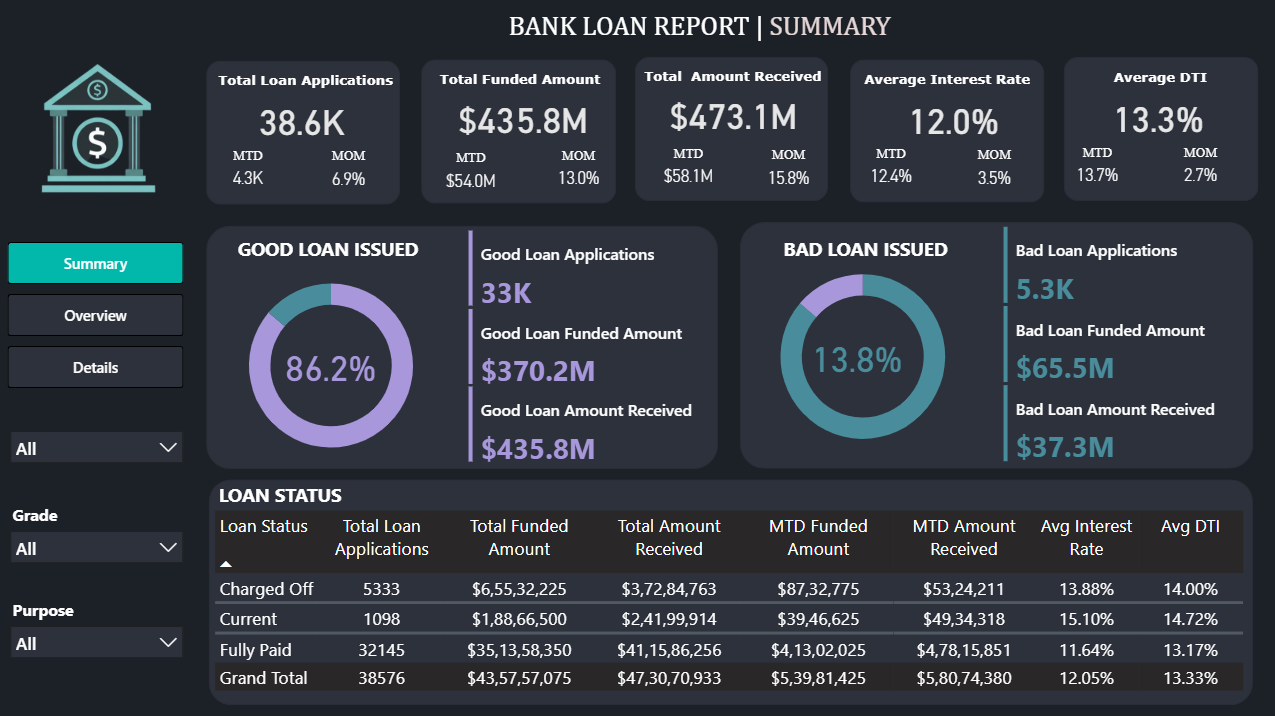

What the dashboard file says about the page in this screenshot:
{"tool":"powerbi","page":{"name":"Summary","canvas":[1280,720],"ordinal":0},"visuals":[{"type":"textbox","box":[121.7,10,1158.3,58.3],"z":0},{"type":"shape","box":[635.4,60.6,193.1,144],"z":0,"group":"g3"},{"type":"shape","box":[1063.1,60.6,194.8,144],"z":0,"group":"g5"},{"type":"shape","box":[421.3,63.1,194.9,144],"z":0,"group":"g2"},{"type":"shape","box":[849.8,63.1,194.3,142.9],"z":0,"group":"g4"},{"type":"shape","box":[206,64.3,193.8,143.7],"z":0,"group":"g1"},{"type":"group","id":"g1","title":"Group 1","box":[206,64.3,195.9,143.7],"z":1000},{"type":"group","id":"g2","title":"Group 1","box":[421.3,63.1,195.7,144],"z":2000},{"type":"card","fields":{"Values":["financial_loan.Total Amount Received"]},"box":[653.6,73.1,159.3,89.5],"z":2000,"group":"g3"},{"type":"card","fields":{"Values":["financial_loan.Avg DTI"]},"box":[1097.5,81.2,121.2,77.5],"z":2000,"group":"g5"},{"type":"card","fields":{"Values":["financial_loan.Avg Interest Rate"]},"box":[892.1,84.1,121.7,75.8],"z":2000,"group":"g4"},{"type":"card","fields":{"Values":["financial_loan.Total Loan Applications"]},"box":[240.4,85.4,121.4,76.2],"z":2000,"group":"g1"},{"type":"card","fields":{"Values":["financial_loan.Total Funded Amount"]},"box":[439.5,86.6,166.3,69.8],"z":2000,"group":"g2"},{"type":"group","id":"g3","title":"Group 1","box":[635.4,60.6,194.9,144],"z":3000},{"type":"textbox","box":[637,65.2,193.3,37.2],"z":3000,"group":"g3"},{"type":"textbox","box":[1062.2,66.8,196,37.5],"z":3000,"group":"g5"},{"type":"textbox","box":[421.9,67.7,195.1,37.2],"z":3000,"group":"g2"},{"type":"textbox","box":[849.4,67.7,194.5,36.9],"z":3000,"group":"g4"},{"type":"textbox","box":[207.9,68.9,194,37.1],"z":3000,"group":"g1"},{"type":"textbox","box":[753.4,233.1,223.3,41.7],"z":3000,"group":"g7"},{"type":"textbox","box":[216,233.3,223.3,41.7],"z":3000,"group":"g6"},{"type":"textbox","box":[7.3,397.5,222.9,41.4],"z":3000,"group":"g10"},{"type":"textbox","box":[214.3,480,223.3,41.7],"z":3000,"group":"g8"},{"type":"textbox","box":[7.1,501.2,222.9,41.4],"z":3000,"group":"g13"},{"type":"textbox","box":[7.1,596.2,222.9,41.4],"z":3000,"group":"g14"},{"type":"group","id":"g4","title":"Group 1","box":[849.4,63.1,194.7,142.9],"z":4000},{"type":"card","title":"MTD","fields":{"Values":["financial_loan.MTD Avg DTI"]},"box":[1063.7,147.5,67.5,40],"z":4000,"group":"g5"},{"type":"card","title":"MTD","fields":{"Values":["financial_loan.MTD Avg Interest Rate"]},"box":[857.4,149.1,67.5,40],"z":4000,"group":"g4"},{"type":"card","title":"MTD","fields":{"Values":["financial_loan.MTD Amount Received"]},"box":[652.1,149.5,74.8,40.5],"z":4000,"group":"g3"},{"type":"card","title":"MTD","fields":{"Values":["financial_loan.MTD Loan Applications"]},"box":[213.4,152.2,68.7,40.5],"z":4000,"group":"g1"},{"type":"card","title":"MTD","fields":{"Values":["financial_loan.MTD Funded Amount"]},"box":[427.1,152.6,87.1,39.3],"z":4000,"group":"g2"},{"type":"group","id":"g5","title":"Group 1","box":[1062.2,60.6,196,144],"z":5000},{"type":"card","title":"MOM","fields":{"Values":["financial_loan.MOM Avg DTI"]},"box":[1166.3,147.5,68.8,40],"z":5000,"group":"g5"},{"type":"card","title":"MOM","fields":{"Values":["financial_loan.MOM Avg Interest Rate"]},"box":[960,150.3,68.8,38.8],"z":5000,"group":"g4"},{"type":"card","title":"MOM","fields":{"Values":["financial_loan.MOM Amount Received"]},"box":[755,150.5,67.5,38.8],"z":5000,"group":"g3"},{"type":"card","title":"MOM","fields":{"Values":["financial_loan.MOM Funded Amount"]},"box":[542.6,151.3,72.4,44.2],"z":5000,"group":"g2"},{"type":"card","title":"MOM","fields":{"Values":["financial_loan.MOM Loan Applications"]},"box":[315.2,152.2,67.5,39.3],"z":5000,"group":"g1"},{"type":"shape","box":[206.7,228.3,511.7,243.3],"z":6000},{"type":"shape","box":[740,225,513.3,246.7],"z":7000},{"type":"donutChart","fields":{"Category":["financial_loan.Good Loan vs Bad Loan"],"Y":["financial_loan.Total Loan Applications"]},"box":[224.3,253.3,215,230],"z":8000},{"type":"card","fields":{"Values":["financial_loan.Good Loan %"]},"box":[269.9,331.3,121.5,74.8],"z":9000},{"type":"group","id":"g6","title":"Group 1","box":[216,233.3,223.3,41.7],"z":10000},{"type":"cardVisual","fields":{"Data":["financial_loan.Good Loan Applications","financial_loan.Good Loan Funded Amount","financial_loan.Good Loan Amount Received"]},"box":[463.3,228.3,260,243.3],"z":11000},{"type":"donutChart","fields":{"Category":["financial_loan.Good Loan vs Bad Loan"],"Y":["financial_loan.Total Loan Applications"]},"box":[754.6,245.4,216,229.4],"z":12000},{"type":"card","fields":{"Values":["financial_loan.Bad Loan %"]},"box":[796.3,322.7,121.5,74.8],"z":13000},{"type":"group","id":"g7","title":"Group 1","box":[753.4,233.1,223.3,41.7],"z":14000},{"type":"cardVisual","fields":{"Data":["financial_loan.Bad Loan Applications","financial_loan.Bad Loan Funded Amount","financial_loan.Bad Loan Amount Received"]},"box":[998.8,224.5,260.1,244.2],"z":15000},{"type":"shape","box":[208.6,482.9,1044.3,225.7],"z":16000},{"type":"tableEx","fields":{"Values":["financial_loan.loan_status","financial_loan.Total Loan Applications","financial_loan.Total Funded Amount","financial_loan.Total Amount Received","financial_loan.MTD Funded Amount","financial_loan.MTD Amount Received","financial_loan.Avg Interest Rate","financial_loan.Avg DTI"]},"box":[208.6,508.6,1044.3,200],"z":17000},{"type":"group","id":"g8","title":"Group 1","box":[214.3,480,224.3,42.9],"z":18000},{"type":"group","id":"g9","title":"Group 2","box":[0,397.5,230,95],"z":19000},{"type":"slicer","fields":{"Values":["financial_loan.address_state"]},"box":[0,423.5,192.9,70],"z":19000,"group":"g9"},{"type":"group","id":"g10","title":"Group 1","box":[7.3,397.5,222.9,41.4],"z":20000,"group":"g9"},{"type":"group","id":"g11","title":"Group 3","box":[0,501.2,230,93.8],"z":20000},{"type":"slicer","fields":{"Values":["financial_loan.grade"]},"box":[0,524.1,192.9,70],"z":21000,"group":"g11"},{"type":"group","id":"g12","title":"Group 4","box":[0,596.2,230,92.5],"z":21000},{"type":"image","box":[31.2,55,131.2,152.5],"z":22000},{"type":"pageNavigator","box":[7.5,245,176.2,147.5],"z":23000},{"type":"slicer","fields":{"Values":["financial_loan.purpose"]},"box":[0,618.8,192.9,70],"z":23000,"group":"g12"},{"type":"group","id":"g13","title":"Group 1","box":[7.1,501.2,222.9,41.4],"z":24000,"group":"g11"},{"type":"group","id":"g14","title":"Group 1","box":[7.1,596.2,222.9,41.4],"z":24001,"group":"g12"}]}

Visuals, with their boxes in screenshot pixels (x1, y1, x2, y2), scaled from the page's 1280x720 canvas onto the 1275x716 screenshot:
textbox: [left=121, top=10, right=1274, bottom=68]
shape: [left=633, top=60, right=825, bottom=203]
shape: [left=1059, top=60, right=1253, bottom=203]
shape: [left=420, top=63, right=614, bottom=206]
shape: [left=846, top=63, right=1040, bottom=205]
shape: [left=205, top=64, right=398, bottom=207]
"Group 1" group: [left=205, top=64, right=400, bottom=207]
"Group 1" group: [left=420, top=63, right=615, bottom=206]
card - financial_loan.Total Amount Received: [left=651, top=73, right=810, bottom=162]
card - financial_loan.Avg DTI: [left=1093, top=81, right=1214, bottom=158]
card - financial_loan.Avg Interest Rate: [left=889, top=84, right=1010, bottom=159]
card - financial_loan.Total Loan Applications: [left=239, top=85, right=360, bottom=161]
card - financial_loan.Total Funded Amount: [left=438, top=86, right=603, bottom=156]
"Group 1" group: [left=633, top=60, right=827, bottom=203]
textbox: [left=635, top=65, right=827, bottom=102]
textbox: [left=1058, top=66, right=1253, bottom=104]
textbox: [left=420, top=67, right=615, bottom=104]
textbox: [left=846, top=67, right=1040, bottom=104]
textbox: [left=207, top=69, right=400, bottom=105]
textbox: [left=750, top=232, right=973, bottom=273]
textbox: [left=215, top=232, right=438, bottom=273]
textbox: [left=7, top=395, right=229, bottom=436]
textbox: [left=213, top=477, right=436, bottom=519]
textbox: [left=7, top=498, right=229, bottom=540]
textbox: [left=7, top=593, right=229, bottom=634]
"Group 1" group: [left=846, top=63, right=1040, bottom=205]
"MTD" card: [left=1060, top=147, right=1127, bottom=186]
"MTD" card: [left=854, top=148, right=921, bottom=188]
"MTD" card: [left=650, top=149, right=724, bottom=189]
"MTD" card: [left=213, top=151, right=281, bottom=192]
"MTD" card: [left=425, top=152, right=512, bottom=191]
"Group 1" group: [left=1058, top=60, right=1253, bottom=203]
"MOM" card: [left=1162, top=147, right=1230, bottom=186]
"MOM" card: [left=956, top=149, right=1025, bottom=188]
"MOM" card: [left=752, top=150, right=819, bottom=188]
"MOM" card: [left=540, top=150, right=613, bottom=194]
"MOM" card: [left=314, top=151, right=381, bottom=190]
shape: [left=206, top=227, right=716, bottom=469]
shape: [left=737, top=224, right=1248, bottom=469]
donutChart - financial_loan.Good Loan vs Bad Loan x financial_loan.Total Loan Applications: [left=223, top=252, right=438, bottom=481]
card - financial_loan.Good Loan %: [left=269, top=329, right=390, bottom=404]
"Group 1" group: [left=215, top=232, right=438, bottom=273]
cardVisual - financial_loan.Good Loan Applications x financial_loan.Good Loan Funded Amount: [left=461, top=227, right=720, bottom=469]
donutChart - financial_loan.Good Loan vs Bad Loan x financial_loan.Total Loan Applications: [left=752, top=244, right=967, bottom=472]
card - financial_loan.Bad Loan %: [left=793, top=321, right=914, bottom=395]
"Group 1" group: [left=750, top=232, right=973, bottom=273]
cardVisual - financial_loan.Bad Loan Applications x financial_loan.Bad Loan Funded Amount: [left=995, top=223, right=1254, bottom=466]
shape: [left=208, top=480, right=1248, bottom=705]
tableEx - financial_loan.loan_status x financial_loan.Total Loan Applications: [left=208, top=506, right=1248, bottom=705]
"Group 1" group: [left=213, top=477, right=437, bottom=520]
"Group 2" group: [left=0, top=395, right=229, bottom=490]
slicer - financial_loan.address_state: [left=0, top=421, right=192, bottom=491]
"Group 1" group: [left=7, top=395, right=229, bottom=436]
"Group 3" group: [left=0, top=498, right=229, bottom=592]
slicer - financial_loan.grade: [left=0, top=521, right=192, bottom=591]
"Group 4" group: [left=0, top=593, right=229, bottom=685]
image: [left=31, top=55, right=162, bottom=206]
pageNavigator: [left=7, top=244, right=183, bottom=390]
slicer - financial_loan.purpose: [left=0, top=615, right=192, bottom=685]
"Group 1" group: [left=7, top=498, right=229, bottom=540]
"Group 1" group: [left=7, top=593, right=229, bottom=634]
